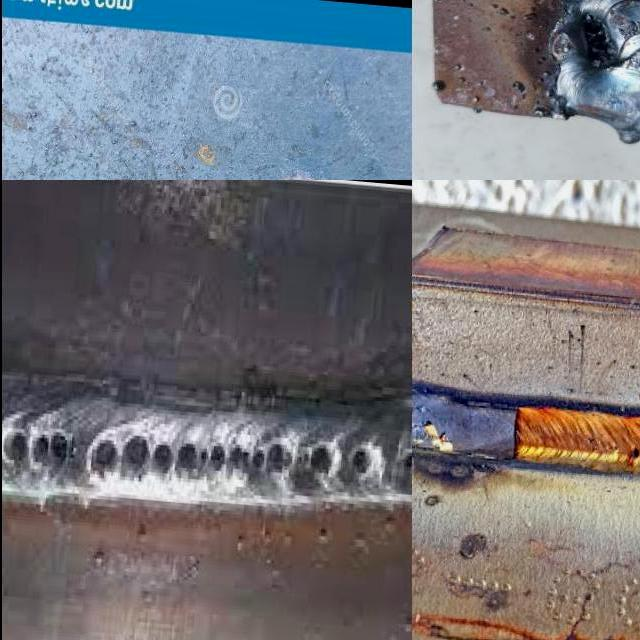defect: (80, 431, 297, 483), (0, 421, 77, 476), (578, 10, 617, 69), (303, 436, 340, 491), (346, 434, 380, 485), (619, 20, 640, 40), (627, 445, 640, 463)
